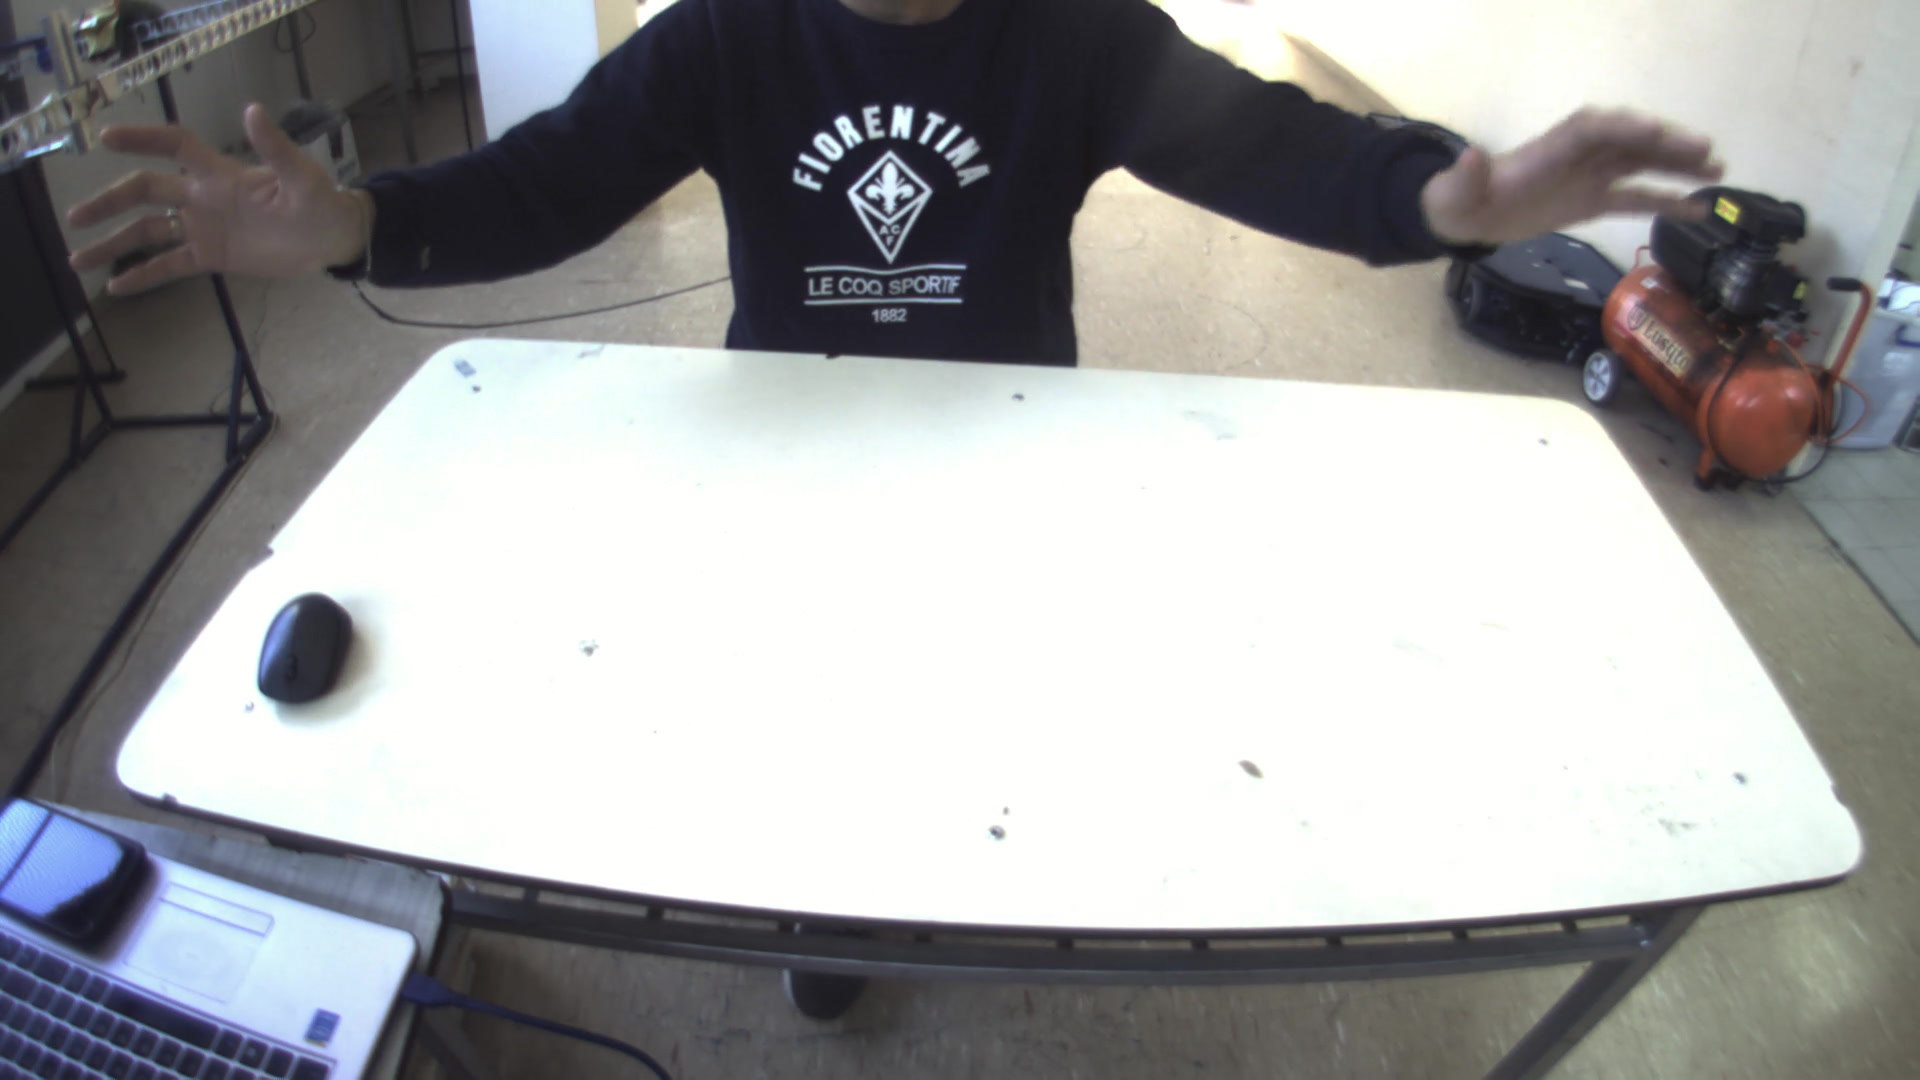hand: (38, 87, 371, 302), (1447, 90, 1724, 240)
